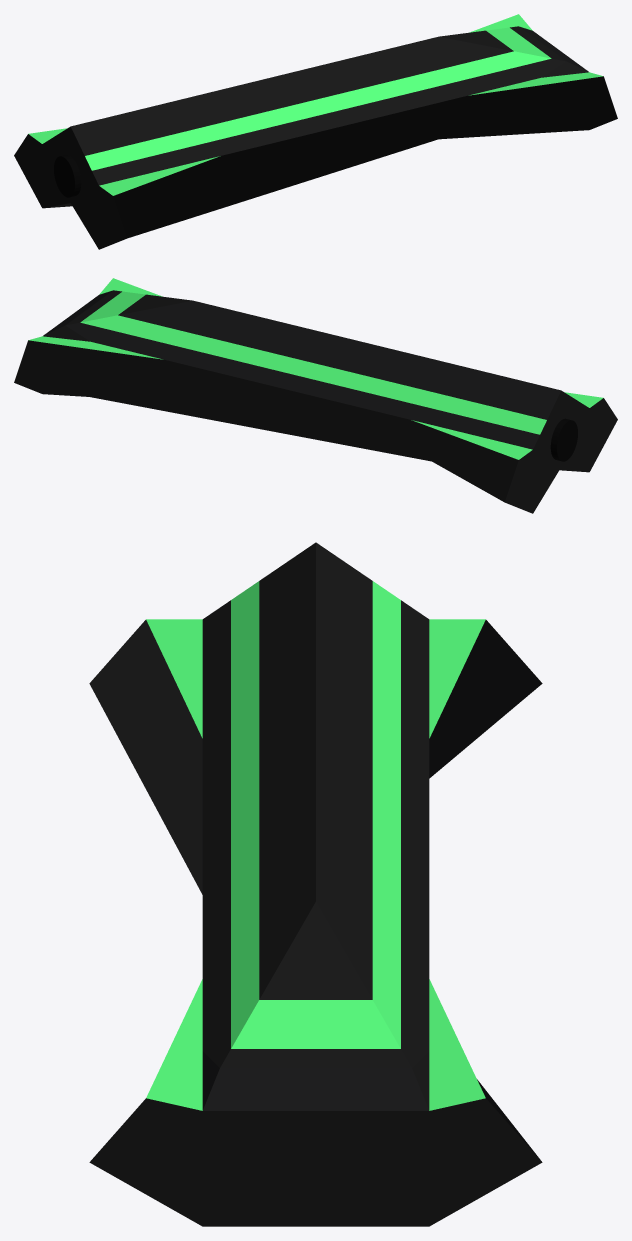
The model's file is simpleGun.obj.
3 renders of one model, top to bottom at view 1: azimuth 30°, elevation 25°; view 2: azimuth 150°, elevation 25°; view 3: azimuth 270°, elevation 25°, orthographic. The views are drawn at different scales.
Parts seen in each view (by area): view 1: Gun_Cube.001, Cylinder; view 2: Gun_Cube.001, Cylinder; view 3: Gun_Cube.001.
Part boxes in pixels (x1,y1,x2,y2): Gun_Cube.001: (14,14,617,249); Cylinder: (54,154,81,197); Gun_Cube.001: (14,278,617,513); Cylinder: (550,418,577,461); Gun_Cube.001: (89,542,542,1226).
Size of the model in its own units: 40.5 by 8 by 16.
